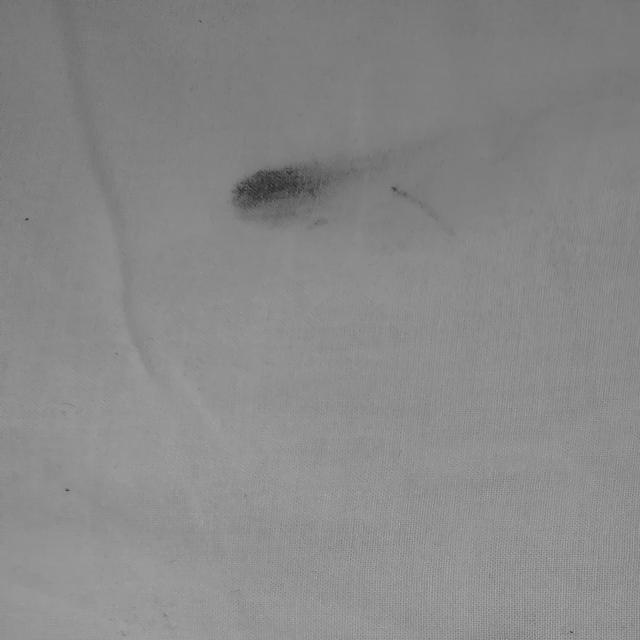Thread_other: (202, 132, 510, 244)
